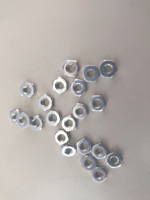nut: (100, 60, 118, 79), (72, 103, 90, 121), (83, 66, 100, 83), (63, 61, 80, 78), (90, 96, 107, 113), (61, 116, 78, 133), (52, 77, 68, 95), (106, 153, 124, 169), (45, 111, 64, 126), (20, 83, 37, 99), (38, 95, 54, 112), (76, 139, 93, 155), (71, 80, 87, 96), (92, 144, 108, 160), (29, 114, 44, 131), (91, 168, 108, 183), (17, 112, 31, 130), (81, 156, 96, 172), (55, 131, 71, 145), (61, 144, 76, 158), (10, 109, 20, 126)
